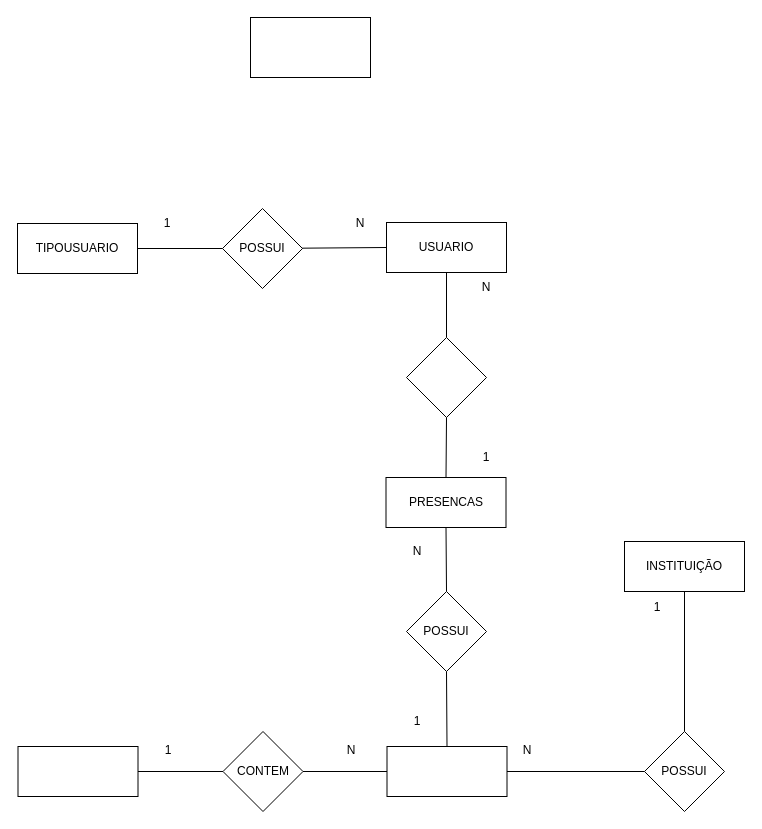
The diagram is 762 pixels wide and 829 high, and some of its shapes have lost their labels. Each missing label, with the box of its shape:
EVENTOS: (386, 746, 507, 796)
MODELO CONCEITUAL: (250, 16, 370, 78)
TEM: (406, 336, 486, 418)
TIPOEVENTO: (17, 746, 138, 796)
